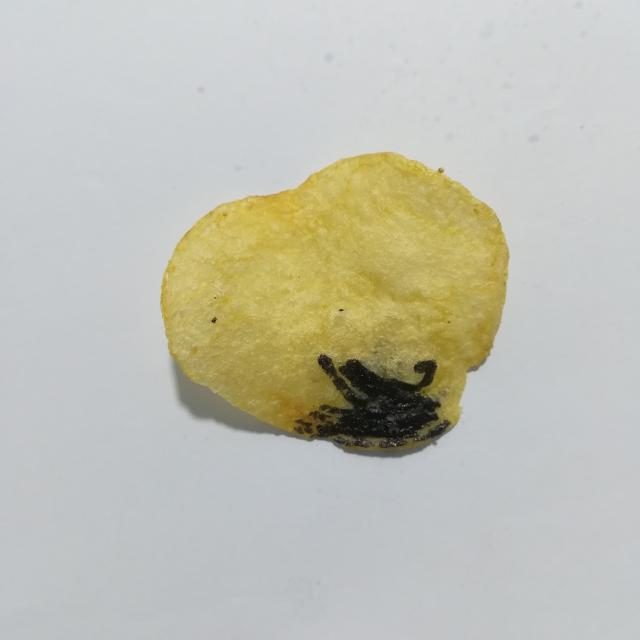chip: (161, 153, 509, 450)
damaged: (294, 354, 450, 448), (211, 317, 217, 323), (339, 308, 344, 311)
semi-damaged: (368, 342, 423, 385)
